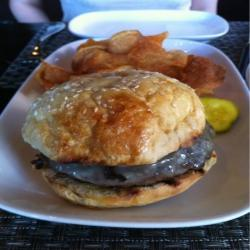burger: (25, 66, 224, 212)
